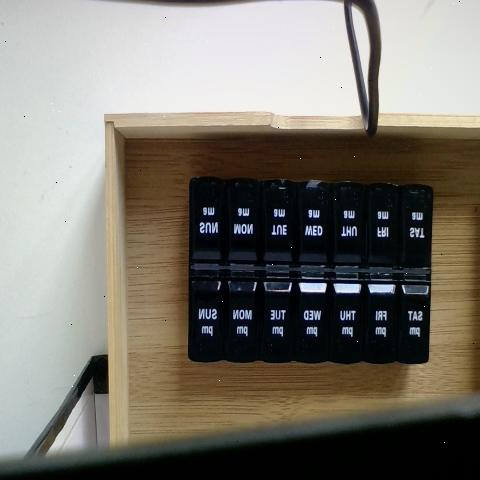FRI-am: (366, 186, 396, 266)
FRI-pm: (366, 275, 395, 360)
MON-am: (228, 180, 260, 262)
MON-pm: (226, 279, 259, 359)
SAT-am: (400, 190, 433, 264)
SAT-pm: (398, 274, 432, 366)
SUN-am: (188, 182, 226, 262)
SUN-pm: (190, 277, 224, 357)
THU-am: (332, 182, 362, 265)
THU-pm: (330, 270, 364, 358)
TUE-am: (263, 183, 294, 259)
TUE-pm: (258, 272, 294, 359)
WED-am: (298, 181, 329, 264)
WED-pm: (296, 270, 328, 360)
